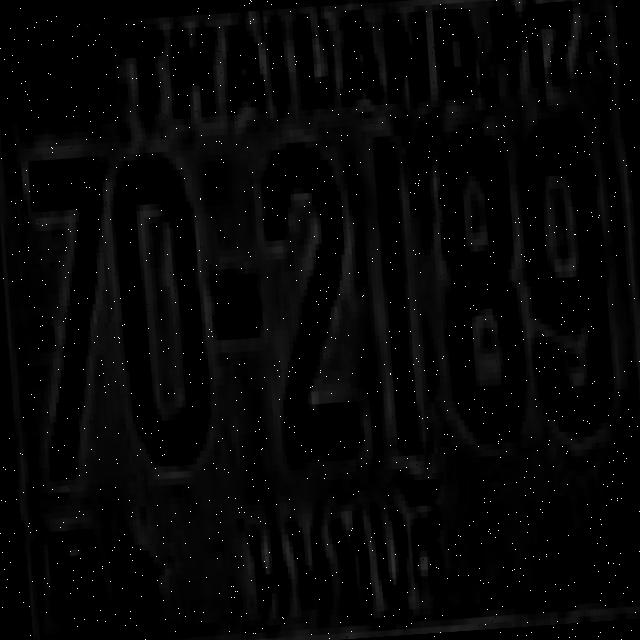0: (108, 150, 208, 462)
1: (370, 136, 417, 450)
2: (260, 136, 354, 454)
7: (24, 150, 118, 474)
8: (430, 121, 524, 439)
9: (515, 115, 612, 427)
Nonthaburi: (232, 470, 454, 637)
